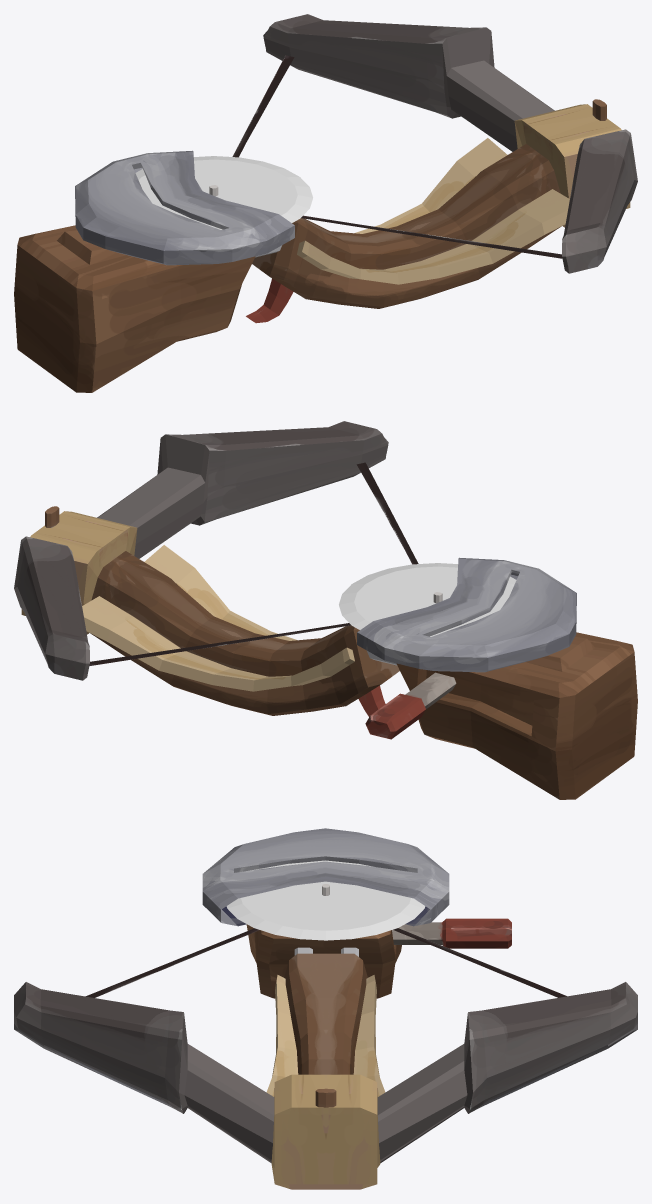
File: CrossSawGun.fbx
The picture shows the model from 3 angles, top to bottom: view 1: azimuth 30°, elevation 25°; view 2: azimuth 150°, elevation 25°; view 3: azimuth 270°, elevation 25°; orthographic projection. The views are drawn at different scales.
Parts seen in each view (by area): view 1: CrossSaw_Gun, SawBlade; view 2: CrossSaw_Gun, SawBlade, Reload handle; view 3: CrossSaw_Gun, SawBlade, Reload handle.
Boxes of the visible parts, x1,y1,x2,y2 form: CrossSaw_Gun: (14, 14, 637, 392); SawBlade: (135, 156, 312, 229); CrossSaw_Gun: (14, 421, 637, 799); SawBlade: (339, 563, 516, 636); Reload handle: (365, 672, 456, 739); CrossSaw_Gun: (14, 828, 637, 1189); SawBlade: (226, 860, 425, 940); Reload handle: (392, 918, 511, 948).
Bounding box in the file's own units: 87.03 × 26.3 × 81.65.
